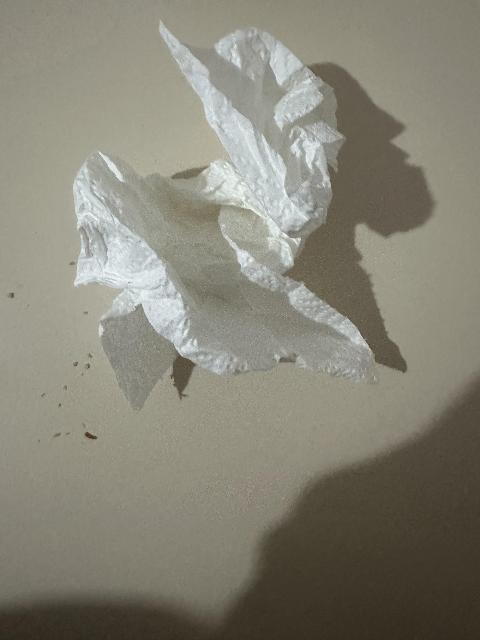Kagit: (74, 21, 377, 416)
